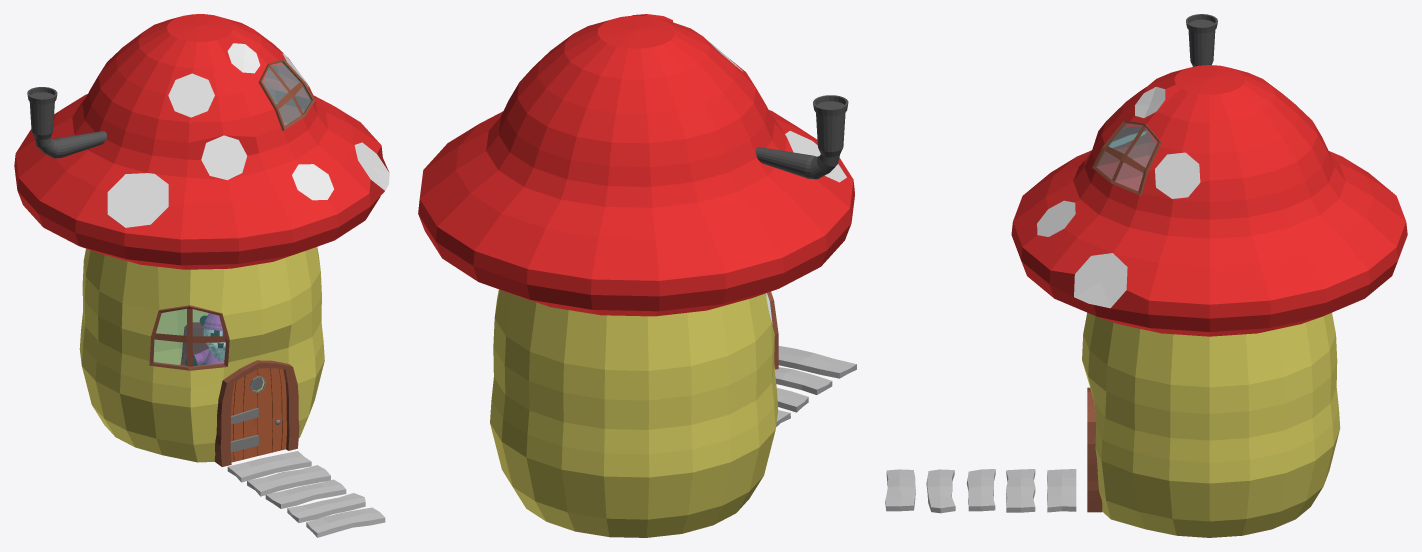
File: CasaHongo.glb
The picture shows the model from 3 angles, left to right: view 1: azimuth 30°, elevation 25°; view 2: azimuth 150°, elevation 25°; view 3: azimuth 270°, elevation 25°; orthographic projection. The views are drawn at different scales.
Parts seen in each view (by area): view 1: Sofa.001; view 2: Sofa.001; view 3: Sofa.001.
Boxes of the visible parts, x1=… form: Sofa.001: x1=14, y1=14, x2=389, y2=537; Sofa.001: x1=418, y1=14, x2=856, y2=537; Sofa.001: x1=885, y1=14, x2=1407, y2=537.
Size of the model in its own units: 0.2686 by 0.2996 by 0.3407.
